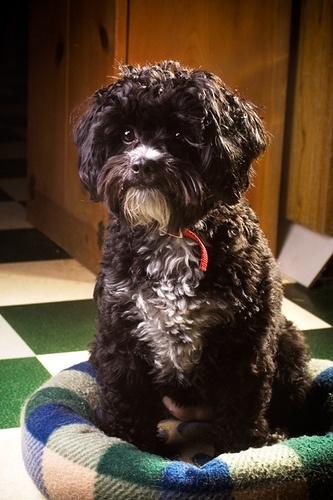dog: (75, 61, 308, 453)
